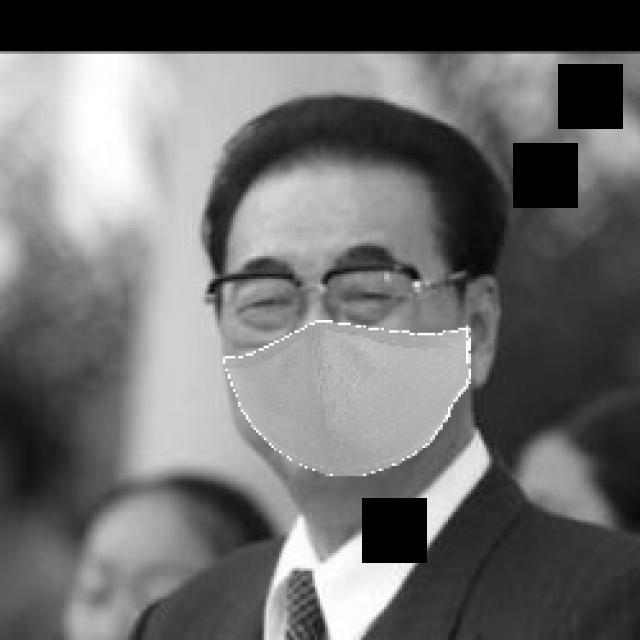cloth: (219, 161, 461, 477)
